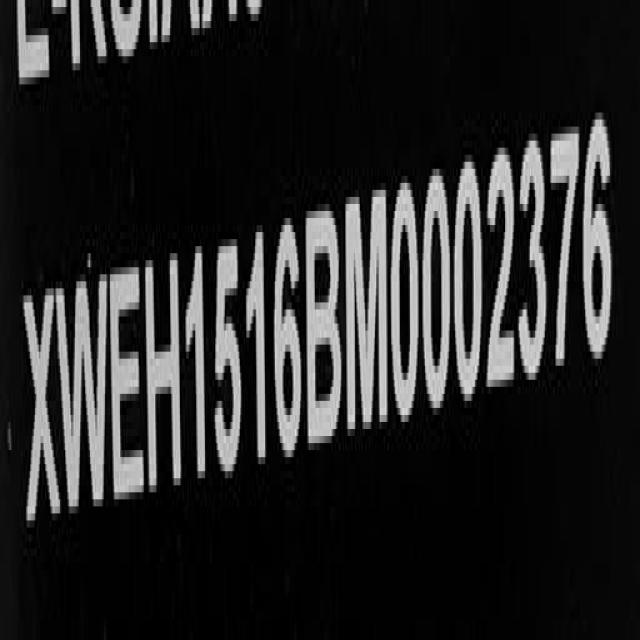0: (422, 167, 452, 421), (452, 155, 482, 408), (391, 179, 419, 433)
1: (186, 240, 208, 498), (247, 222, 268, 477)
2: (488, 146, 520, 400)
3: (520, 133, 550, 392)
5: (214, 230, 243, 484)
6: (581, 112, 613, 374), (274, 212, 302, 469)
7: (546, 123, 582, 382)
B: (307, 203, 343, 457)
E: (112, 261, 146, 518)
H: (146, 247, 182, 506)
M: (343, 181, 388, 442)
W: (59, 273, 109, 532)
X: (22, 285, 59, 544)
